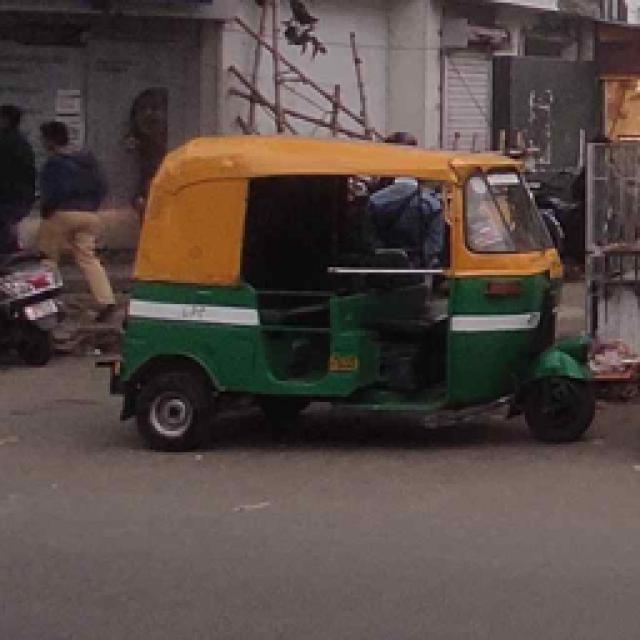autorickshaw: (117, 135, 595, 455)
